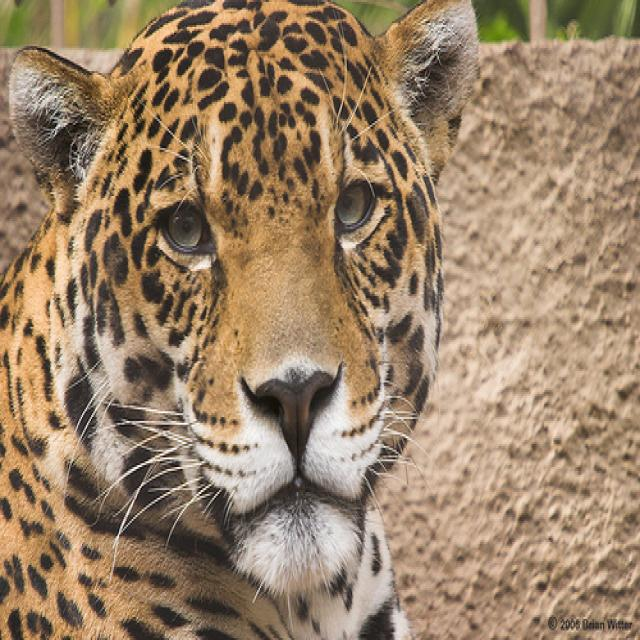Leopard: (0, 2, 480, 636)
